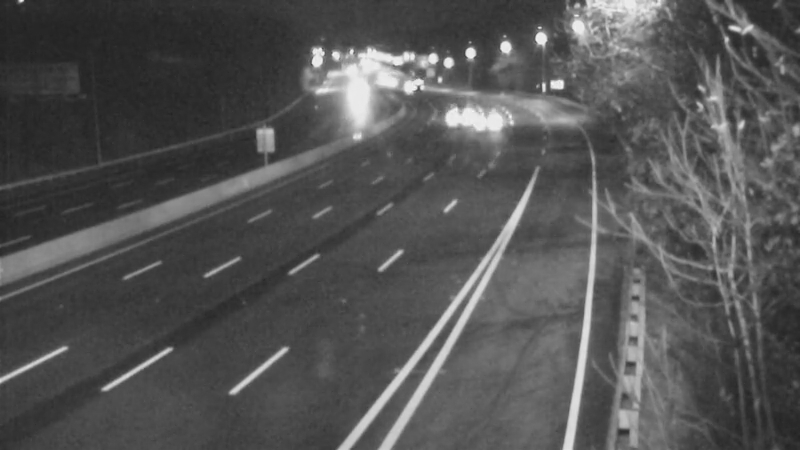vehicle: (378, 60, 428, 110), (429, 89, 479, 139), (460, 95, 510, 145), (330, 70, 380, 120)
